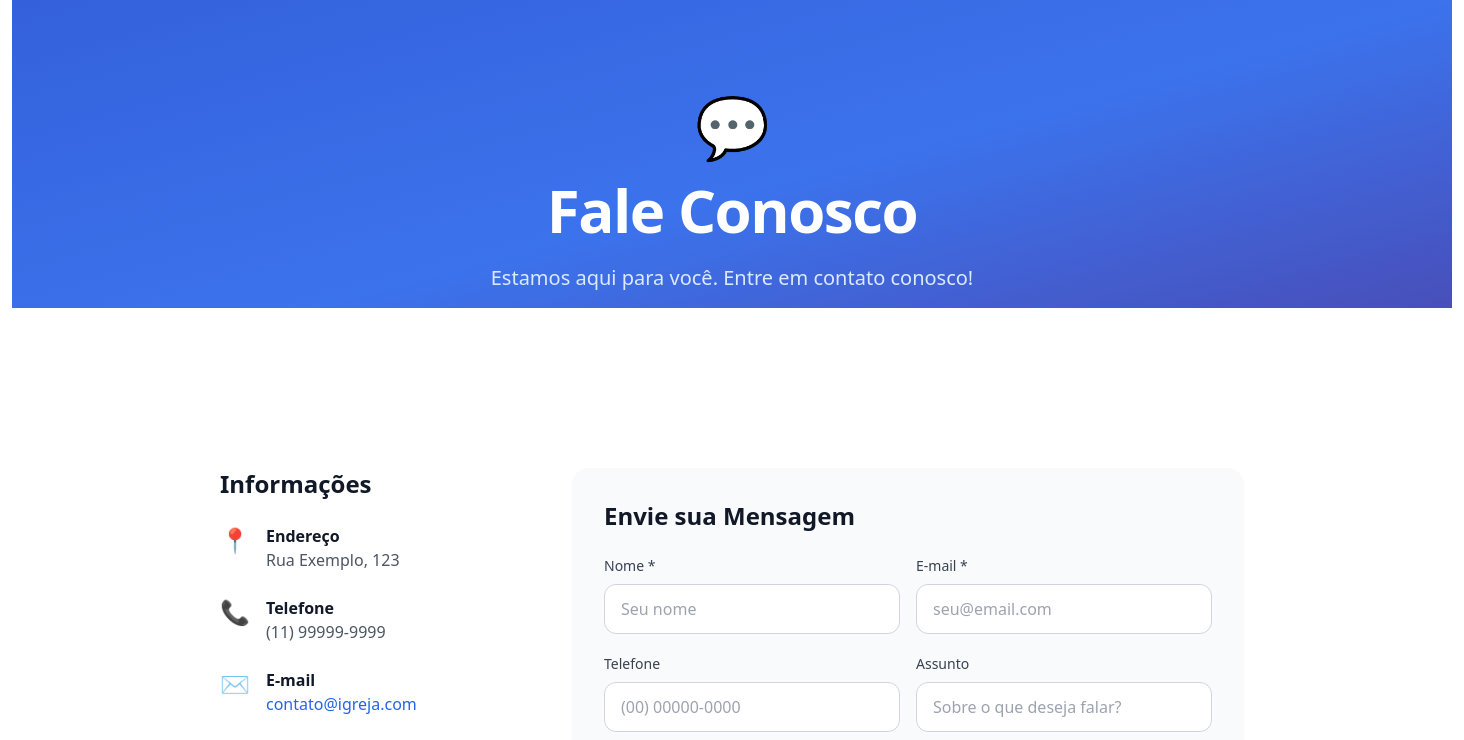
ContactPage › Form Validation › should show error when email is empty
The width and height of the screenshot is (1464, 740).
Type "John Doe" into the field with placeholder "Seu nome". click: (752, 609)
box: [604, 584, 900, 634]
(page scrolled)
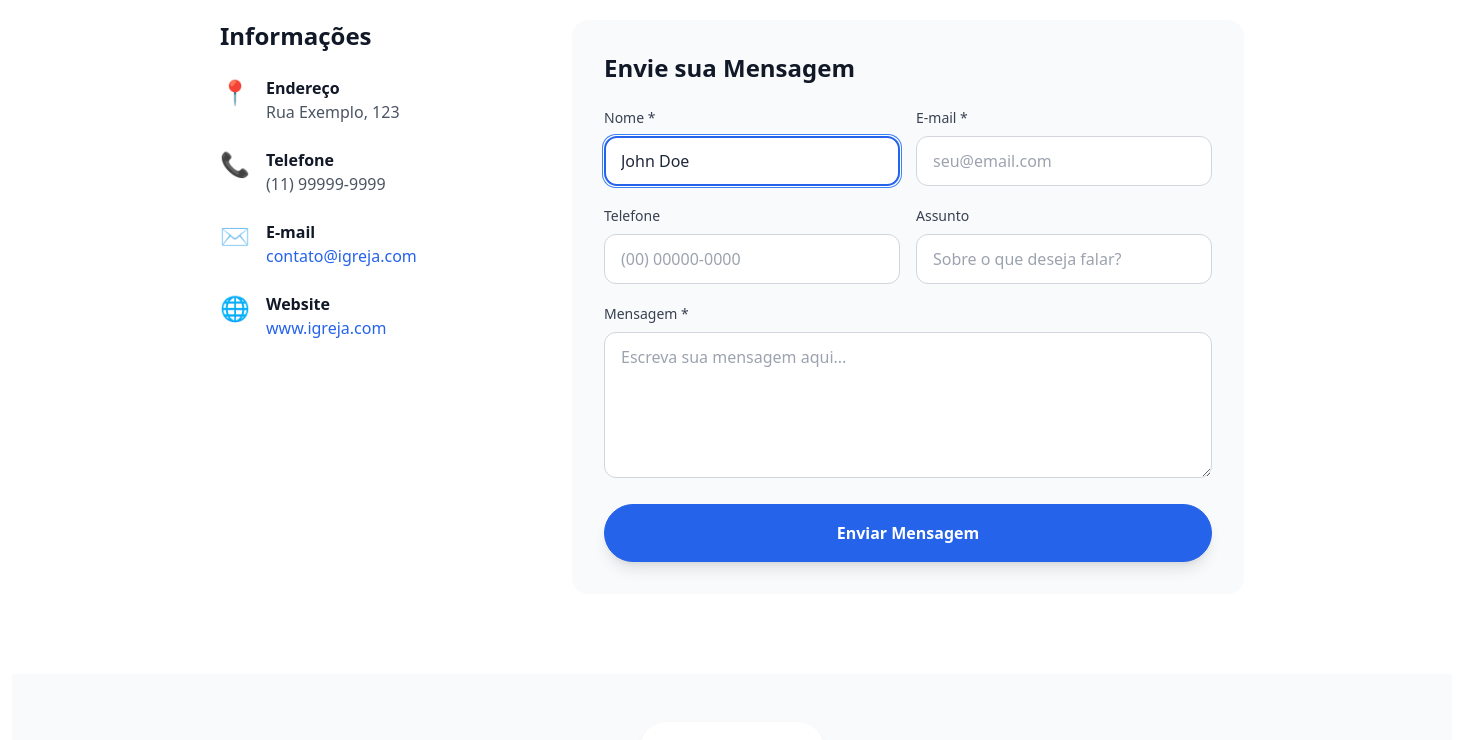
Type "Test message" into the text box with placeholder "Escreva sua mensagem aqui...". click: (908, 405)
box: [604, 332, 1212, 478]
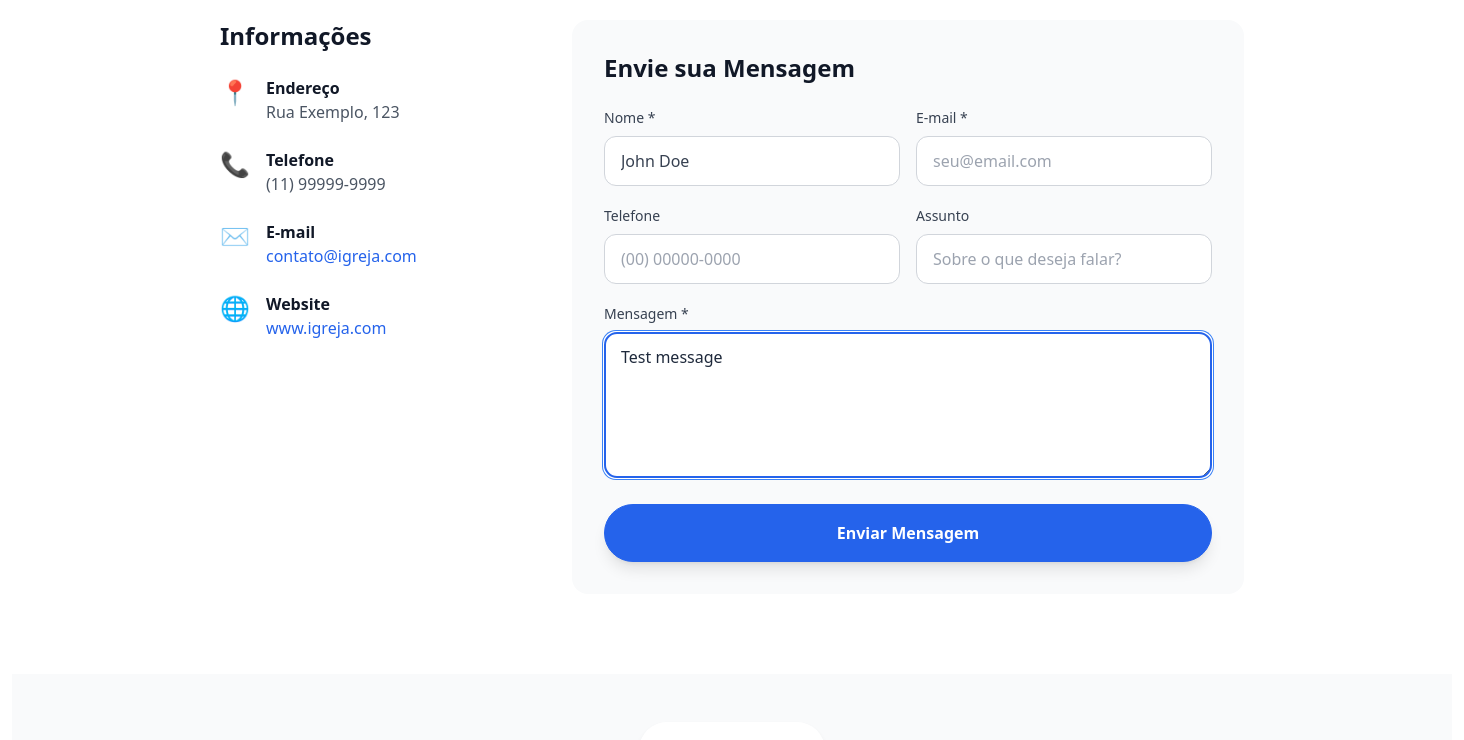
Click the button "Enviar Mensagem". click: (908, 533)
box: [604, 504, 1212, 562]
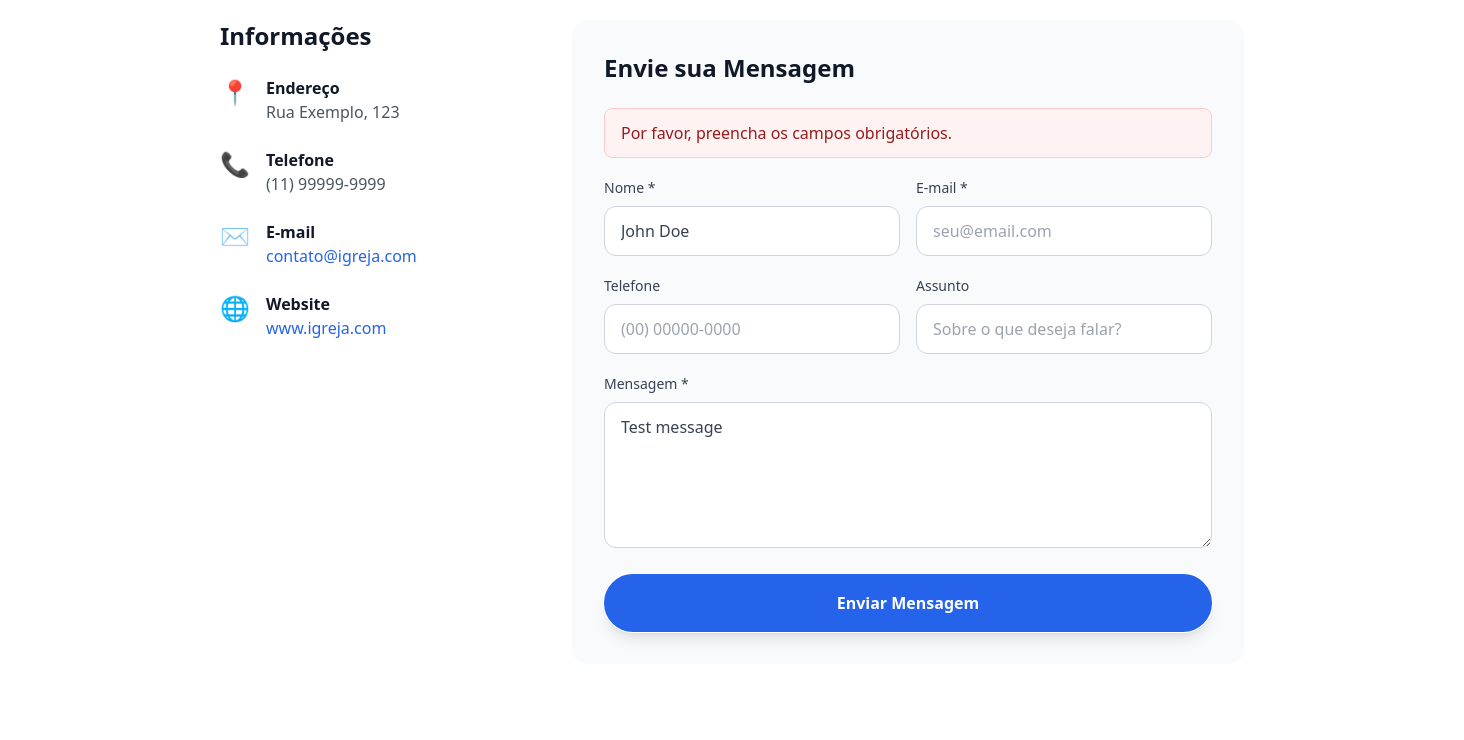
Check: the text "Por favor, preencha os campos obrigatórios." is shown, box [604, 108, 1212, 158]
